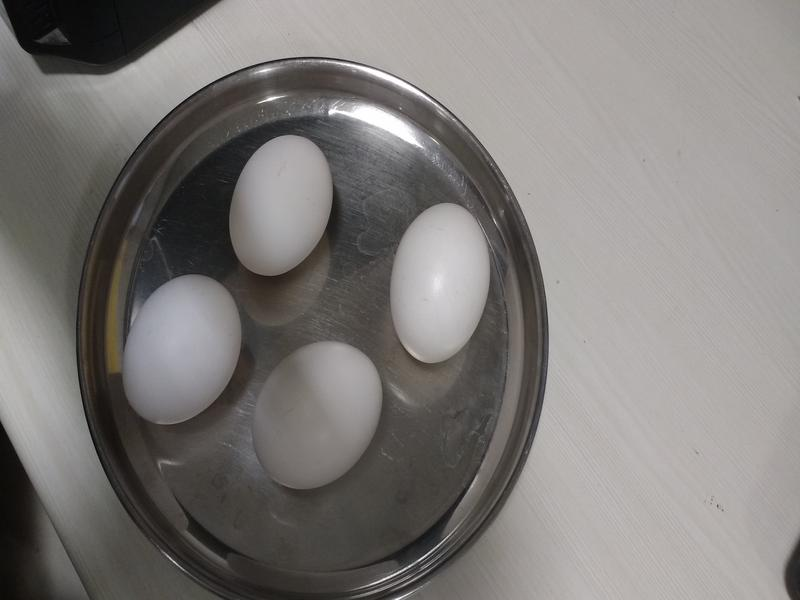egg: (122, 269, 246, 424)
